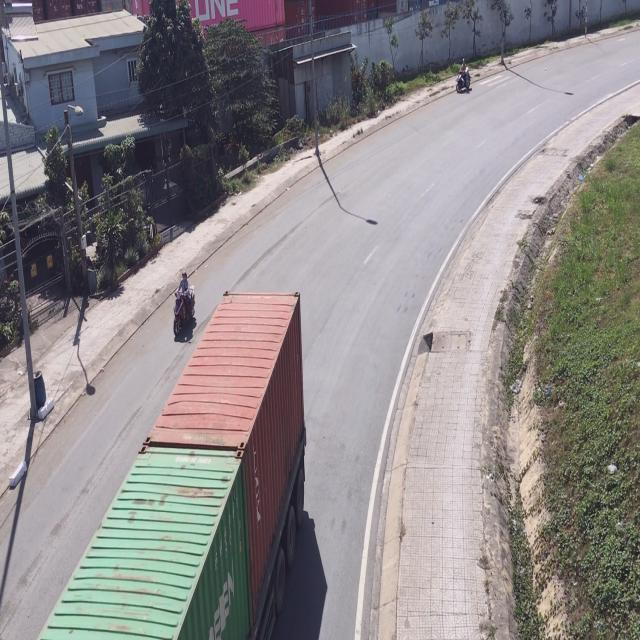motorbike: (172, 270, 195, 338), (456, 59, 471, 96)
truck: (34, 293, 305, 640)
